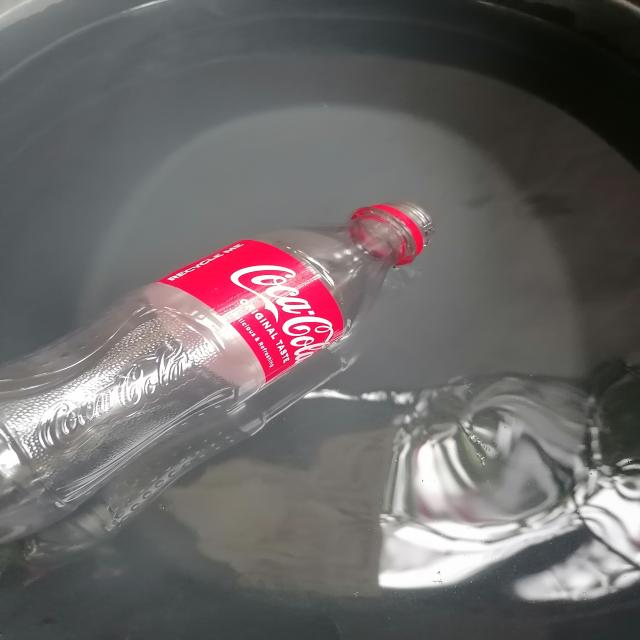Plastic Bottle: (0, 184, 461, 554)
